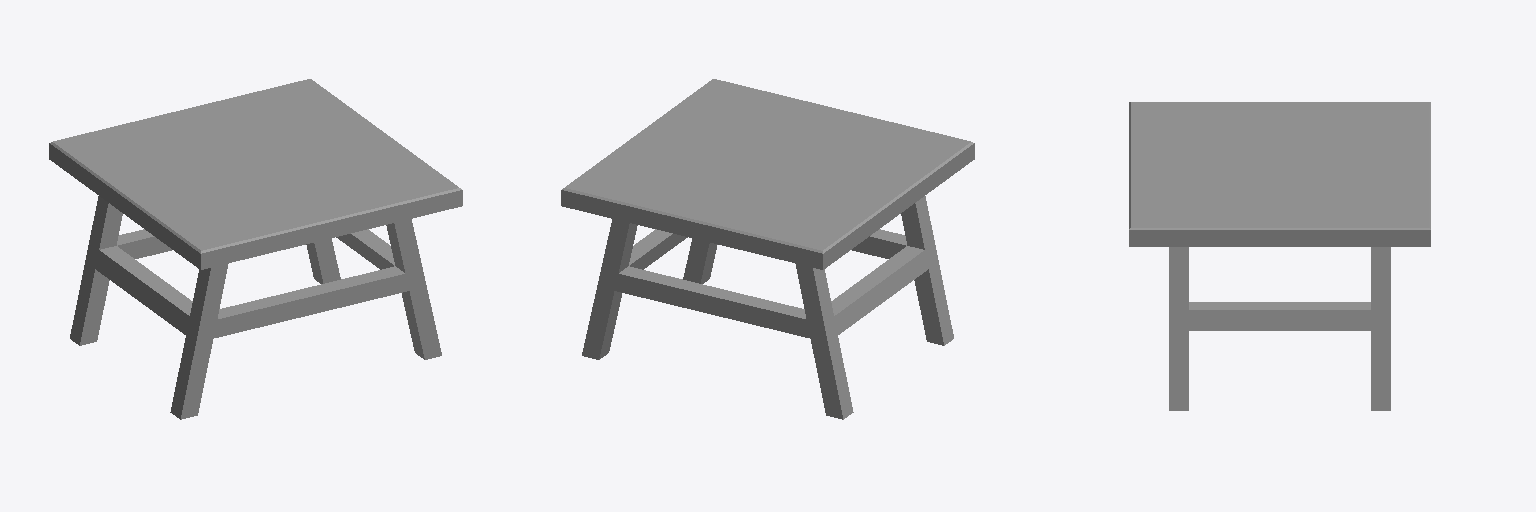
Rendered from stool.obj.
3 renders of one model, left to right at view 1: azimuth 30°, elevation 25°; view 2: azimuth 150°, elevation 25°; view 3: azimuth 270°, elevation 25°, orthographic.
Visible parts, largest first — view 1: stool_Cube; view 2: stool_Cube; view 3: stool_Cube.
Boxes of the visible parts, box(x1,y1,x2,y2) form: stool_Cube: box(49, 79, 462, 419); stool_Cube: box(561, 79, 974, 419); stool_Cube: box(1129, 102, 1430, 410).
Bounding box in the file's own units: 0.75 × 0.5 × 0.75.